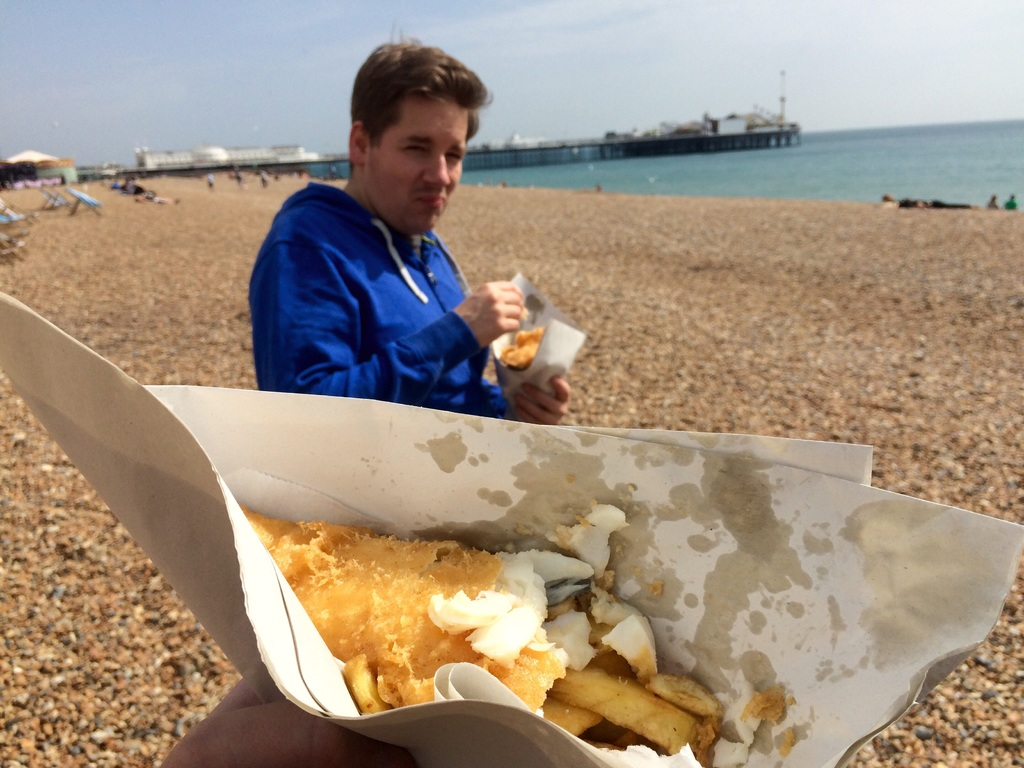Human_hand: (159, 679, 429, 767), (454, 276, 527, 349), (505, 373, 575, 428)
